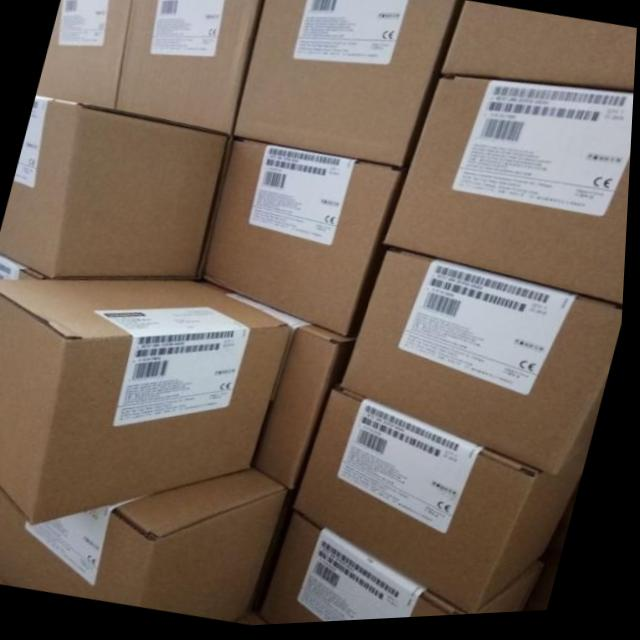box: (0, 278, 297, 525), (337, 250, 626, 484), (296, 393, 587, 619), (383, 78, 635, 315), (0, 471, 290, 626), (0, 99, 229, 280), (203, 139, 405, 337), (236, 0, 460, 171), (199, 280, 351, 493), (261, 513, 476, 627), (118, 0, 261, 137), (435, 8, 637, 99), (36, 0, 132, 110), (0, 253, 53, 280)
